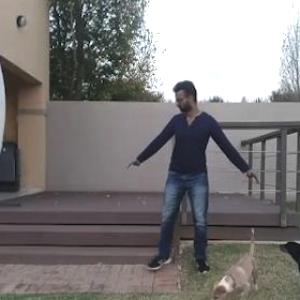land: (125, 79, 257, 270)
